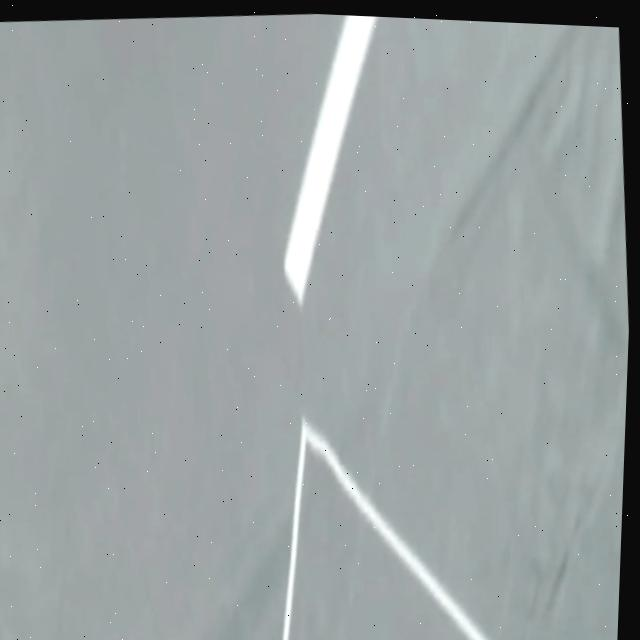center: (286, 15, 377, 305)
